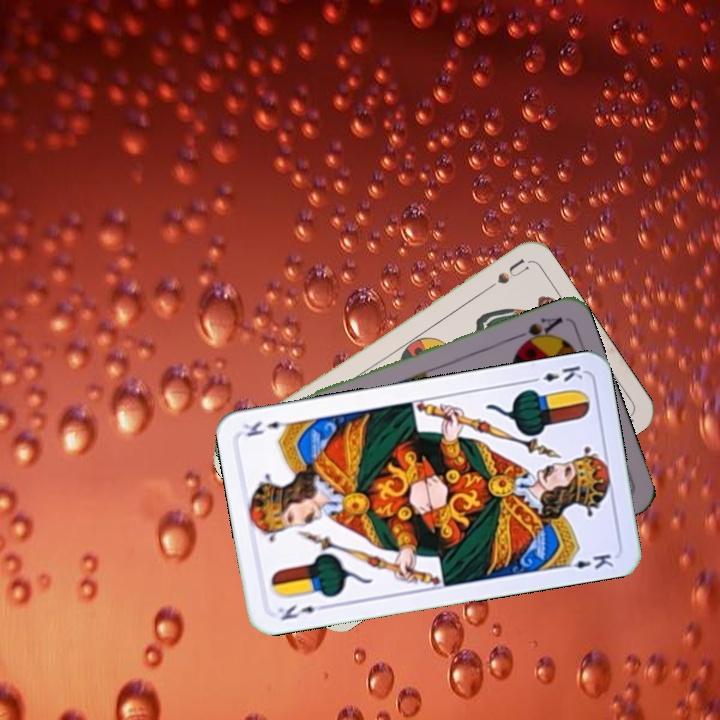EK: (526, 361, 586, 386), (274, 599, 330, 623)
SA: (509, 313, 566, 350)
SU: (476, 254, 531, 297)
